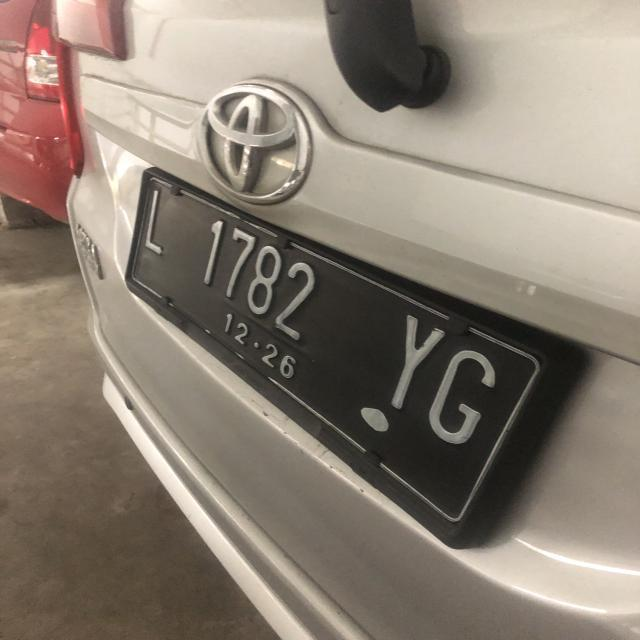1: (195, 222, 228, 282)
2: (278, 263, 320, 341)
7: (222, 228, 256, 294)
8: (246, 245, 282, 317)
G: (432, 341, 496, 445)
L: (140, 192, 170, 256)
Y: (394, 315, 446, 402)
